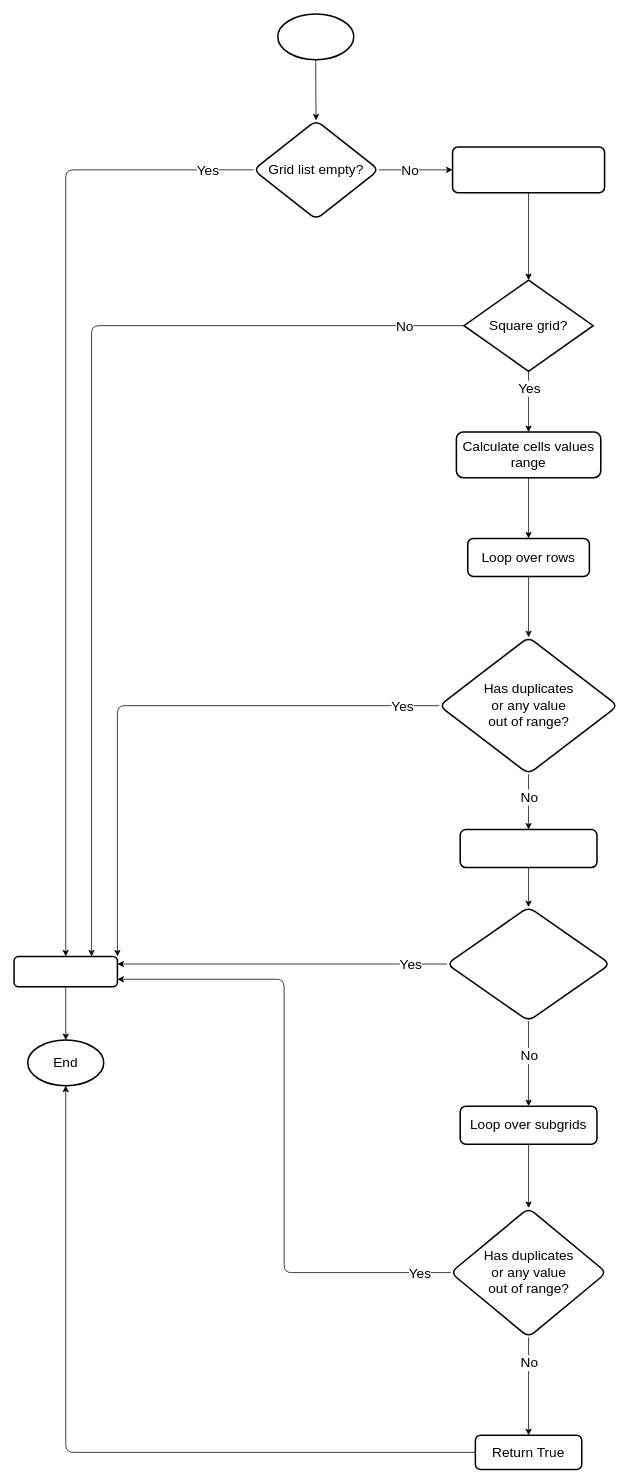
Some shapes in this 632 by 1483 pixel diagram are drawn without their labels. The centre of each missing label's shape, as x and y in pixels:
"Calculate subgrid size" belongs at pixel 528 169.
"Has duplicates and all values in the range?" belongs at pixel 528 963.
"Loop over columns" belongs at pixel 528 848.
"Return False" belongs at pixel 65 971.
"Start" belongs at pixel 315 36.
